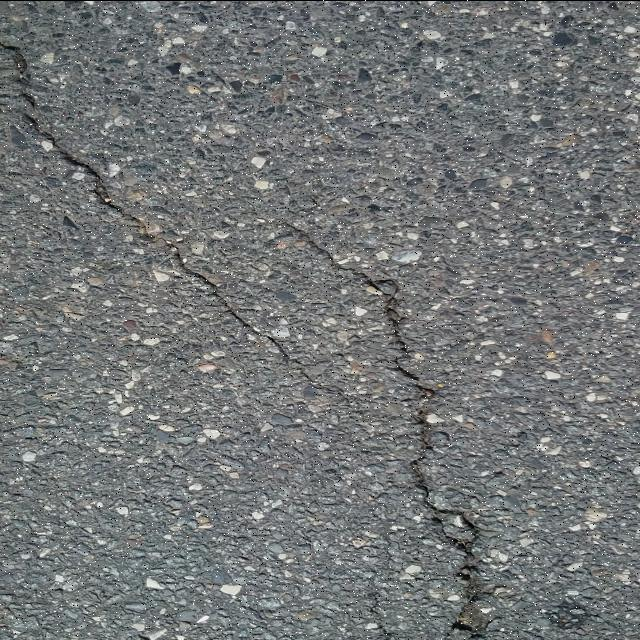Crack: (0, 39, 345, 395), (279, 221, 503, 640)
